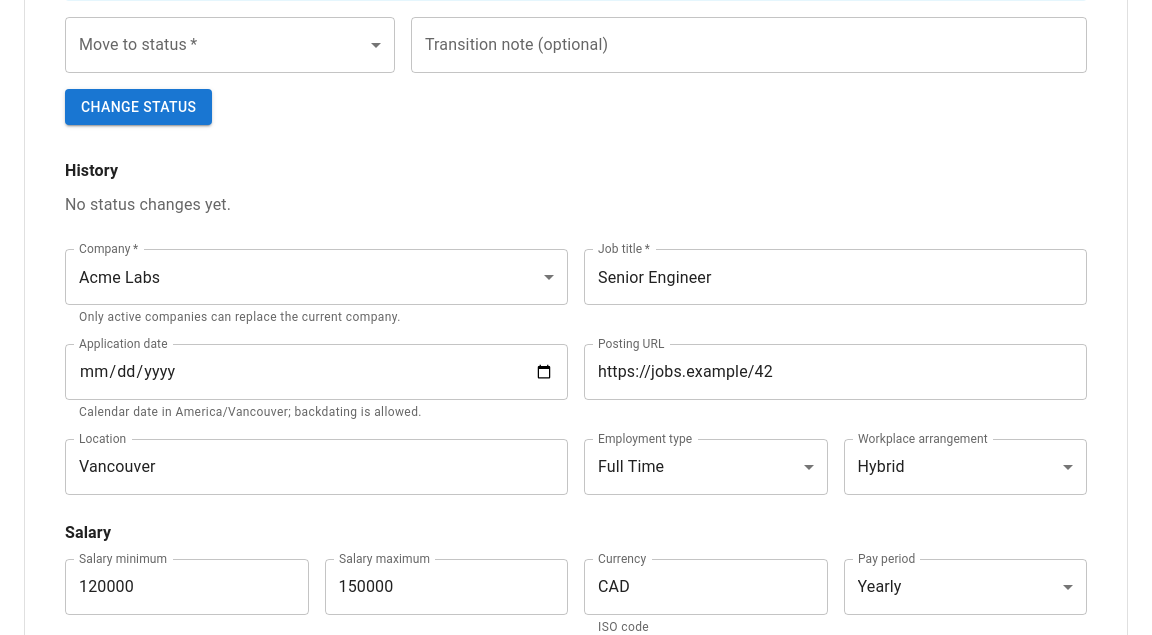
Test: identity workflow › shows every application detail and submits a backdated local calendar date
(page scrolled)
Expected: the text "Calendar date in America/Vancouver; backdating is allowed." is shown, x1=79 y1=405 x2=422 y2=419
Replace the text in the field labelled "Job title *" with "Principal Engineer": point(836, 277) x1=584 y1=249 x2=1087 y2=305
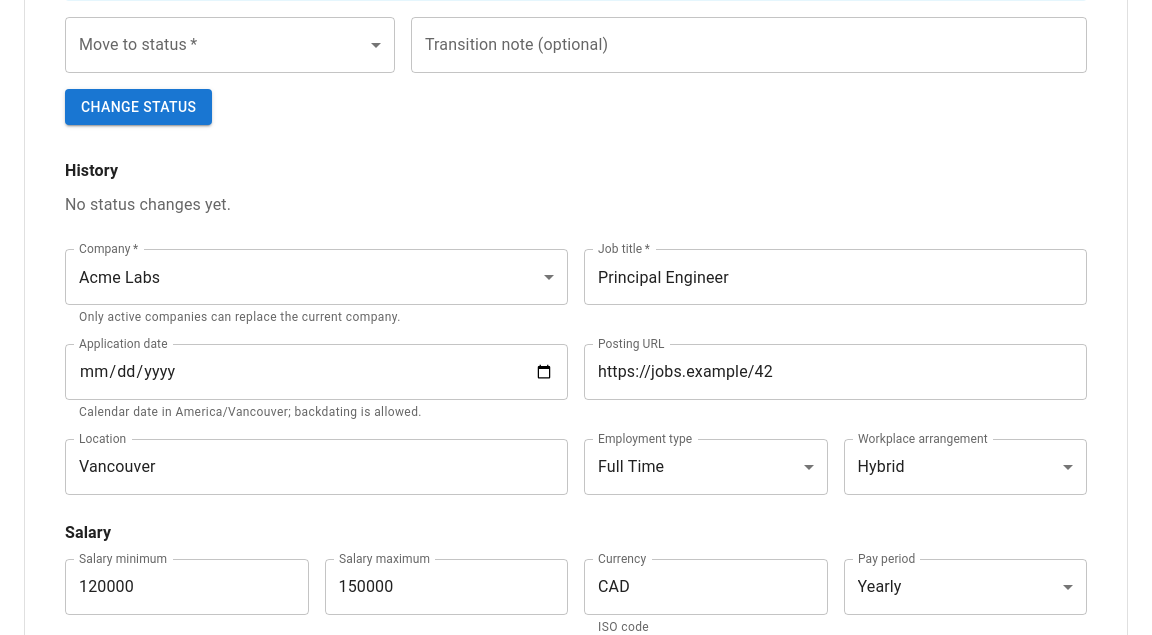
In the date field labelled "Application date": point(316, 372) x1=65 y1=344 x2=568 y2=400, type "2024-01-15"
(page scrolled)
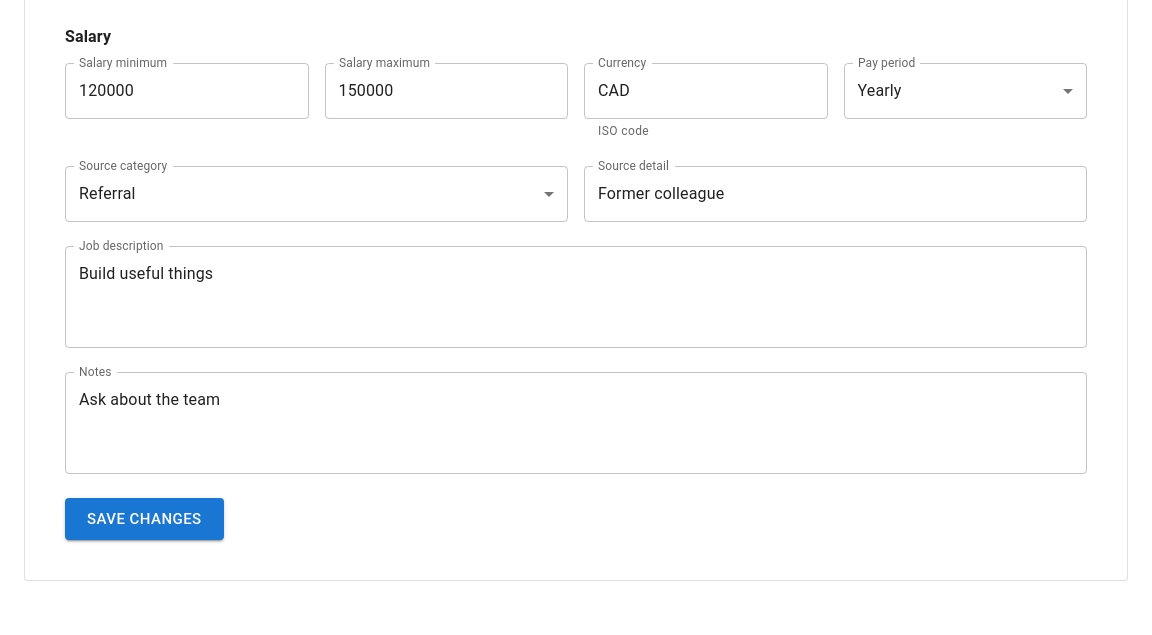
Click the button "Save changes": point(144, 519) x1=65 y1=498 x2=224 y2=540
(page scrolled)
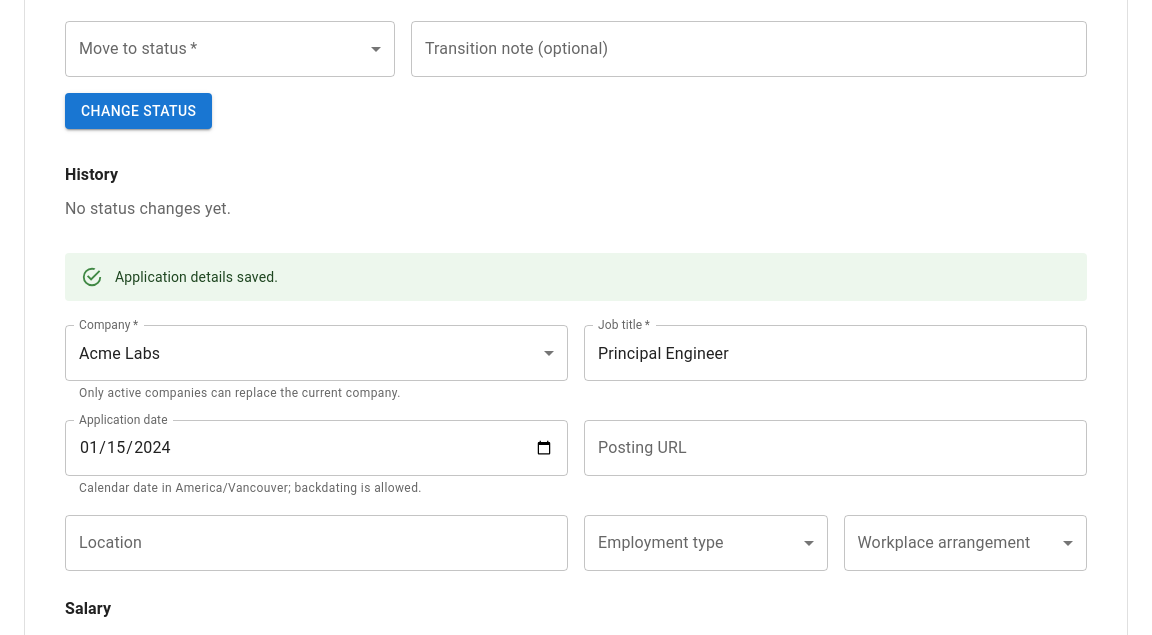
Expected: the text "Application details saved." is shown, x1=115 y1=269 x2=278 y2=285
